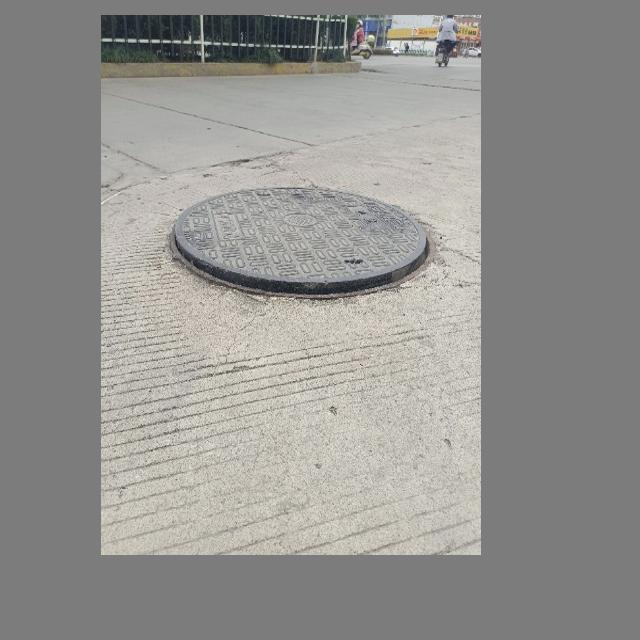good: (170, 185, 437, 299)
